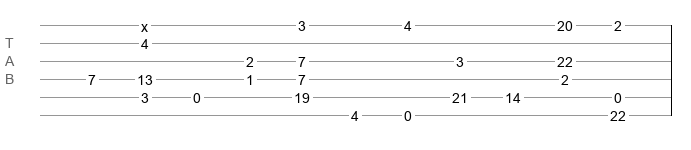0: (193, 90, 201, 100), (404, 108, 412, 118), (614, 90, 622, 100)
1: (246, 72, 254, 82)
13: (137, 72, 153, 82)
14: (505, 90, 521, 100)
19: (294, 90, 310, 100)
2: (246, 54, 254, 64), (561, 72, 569, 82), (614, 18, 622, 28)
20: (557, 18, 573, 28)
21: (452, 90, 468, 100)
22: (557, 54, 573, 64), (610, 108, 626, 118)
3: (141, 90, 149, 100), (298, 18, 306, 28), (456, 54, 464, 64)
4: (141, 36, 149, 46), (351, 108, 359, 118), (404, 18, 412, 28)
7: (88, 72, 96, 82), (298, 72, 306, 82), (298, 54, 306, 64)
x: (141, 19, 148, 27)
